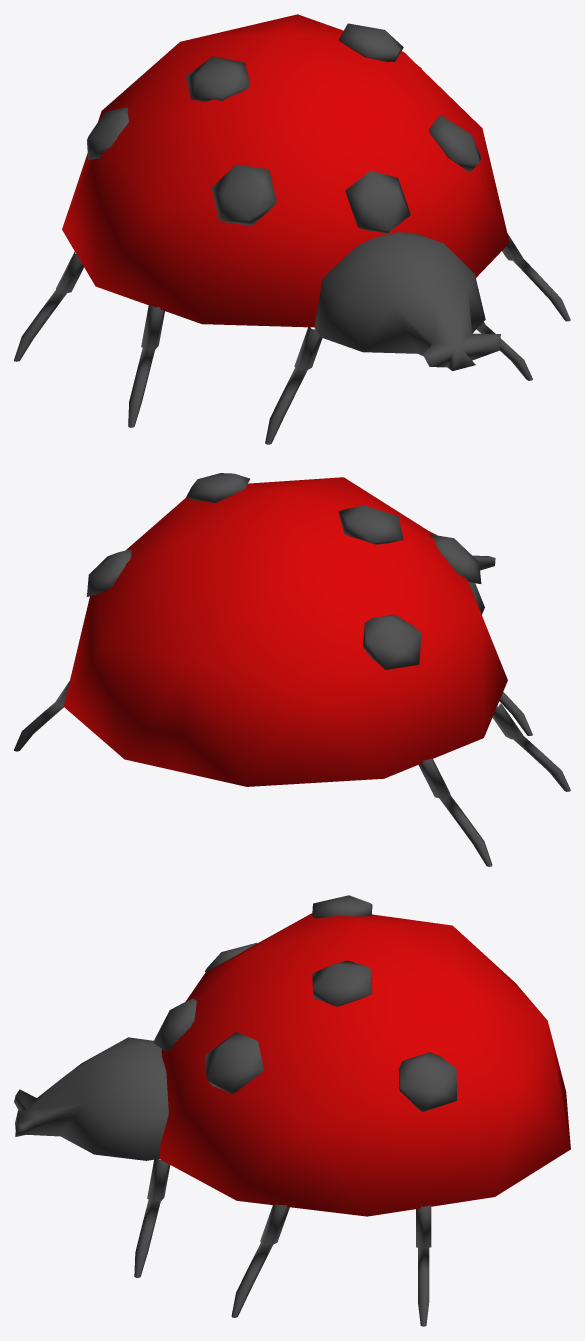
File: 57yNPP6-sV_.glb
The picture shows the model from 3 angles, top to bottom: view 1: azimuth 30°, elevation 25°; view 2: azimuth 150°, elevation 25°; view 3: azimuth 270°, elevation 25°; orthographic projection. The views are drawn at different scales.
Parts seen in each view (by area): view 1: Symmetry; view 2: Symmetry; view 3: Symmetry.
Part boxes in pixels (x1,y1,x2,y2): Symmetry: [14, 14, 570, 444]; Symmetry: [14, 473, 570, 866]; Symmetry: [14, 895, 570, 1326].
Bounding box in the file's own units: 1.69 × 0.9999 × 1.74.
